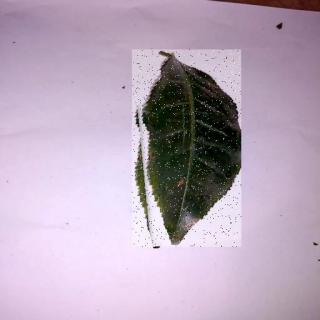Anthracnose: (133, 51, 242, 248)
